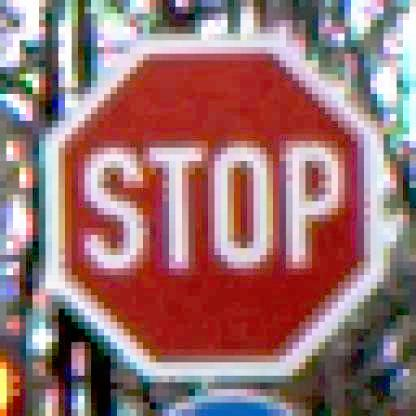Stop Sign: (51, 30, 390, 385)
